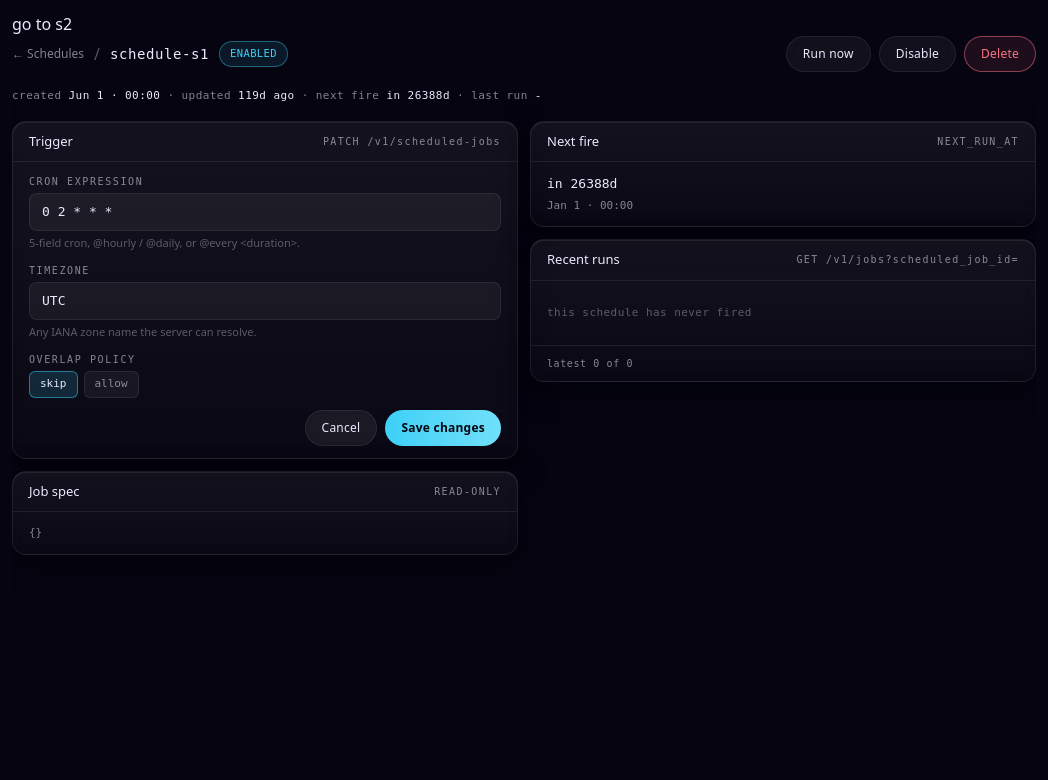
a detail-to-detail route transition hides the action bar, form and delete control until the new id loads
Expected: the text "schedule-s1" is shown, [110,44,209,64]
Expected: the button "Delete" is shown, [964,36,1036,72]
What coordinates should you click on to do the following:
click the link "go to s2"
I would click on:
 (42, 24)
Its box is [12,13,72,35].
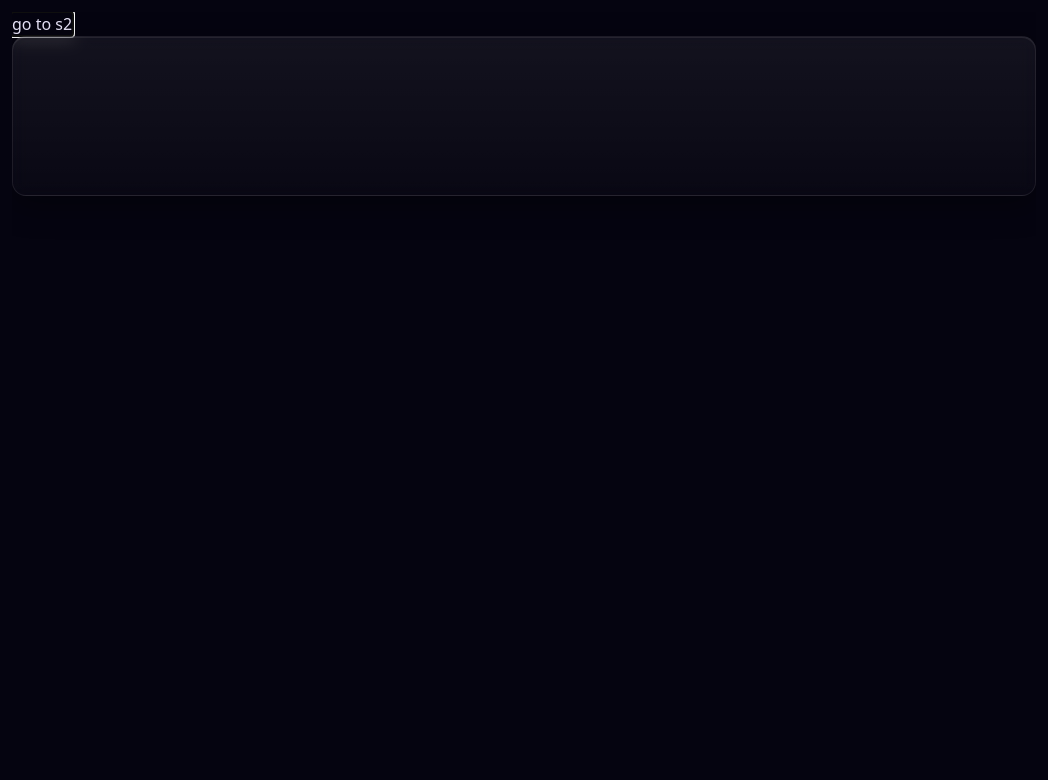
Now the text "schedule-s1" is gone
Now the button "Delete" is gone
Now the button "Run now" is gone
